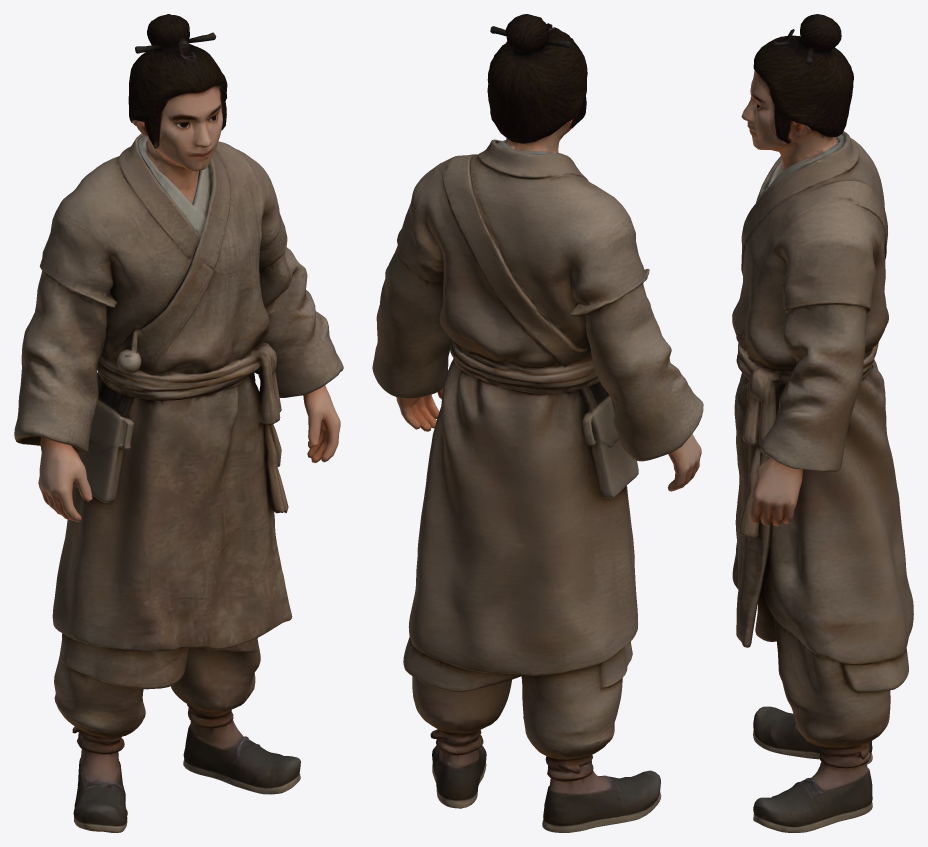
File: envoy.glb
3 renders of one model, left to right at view 1: azimuth 30°, elevation 25°; view 2: azimuth 150°, elevation 25°; view 3: azimuth 270°, elevation 25°, orthographic. The views are drawn at different scales.
Visible parts, largest first — view 1: tripo_node_e87b6ae6-78a2-4630-b616-91db00681bdf; view 2: tripo_node_e87b6ae6-78a2-4630-b616-91db00681bdf; view 3: tripo_node_e87b6ae6-78a2-4630-b616-91db00681bdf.
Boxes of the visible parts, x1=… form: tripo_node_e87b6ae6-78a2-4630-b616-91db00681bdf: x1=14, y1=14, x2=343, y2=832; tripo_node_e87b6ae6-78a2-4630-b616-91db00681bdf: x1=372, y1=14, x2=703, y2=832; tripo_node_e87b6ae6-78a2-4630-b616-91db00681bdf: x1=732, y1=14, x2=913, y2=832.
Bounding box in the file's own units: 0.7266 × 1.7 × 0.364.
1 material, 1 textured.
